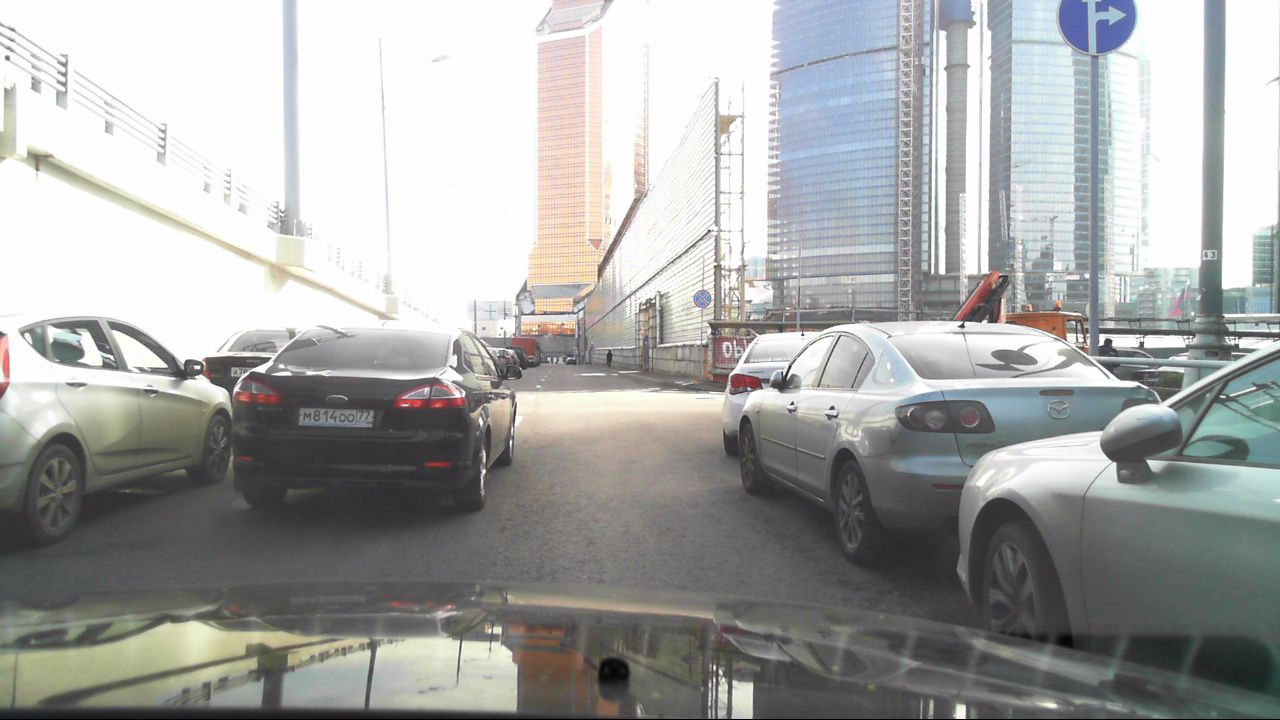No Parking: (693, 289, 710, 309)
